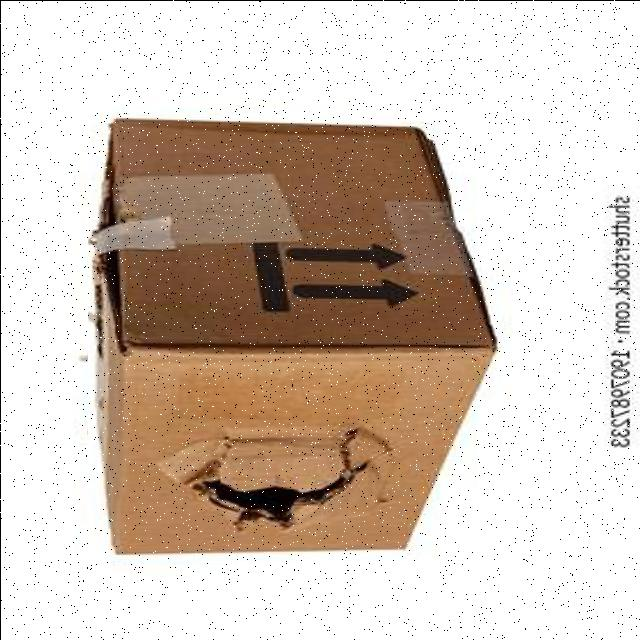defect: (87, 112, 501, 560)
